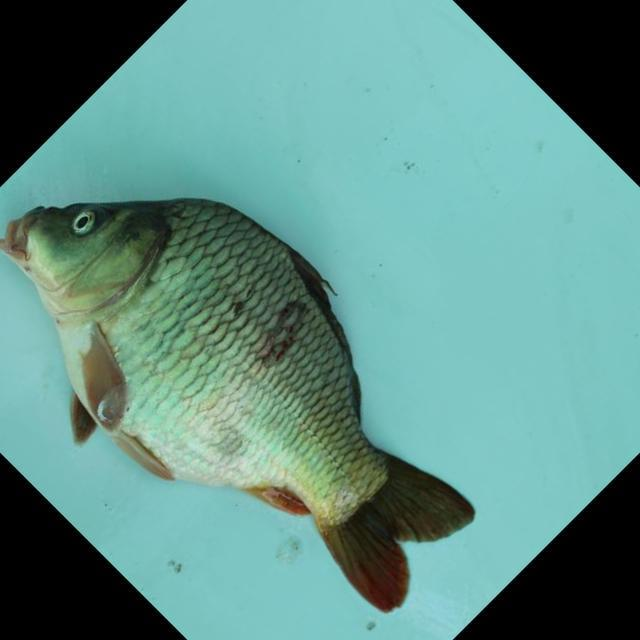CommonCarp: (7, 188, 481, 618)
